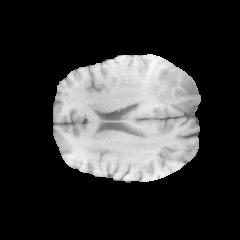glioma: (126, 62, 196, 117)
